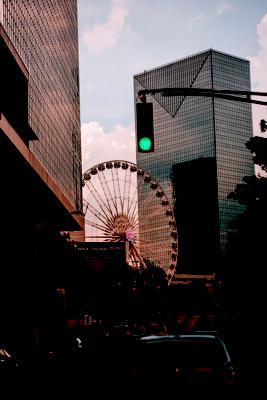International Road Signal Light: (135, 101, 156, 155)
